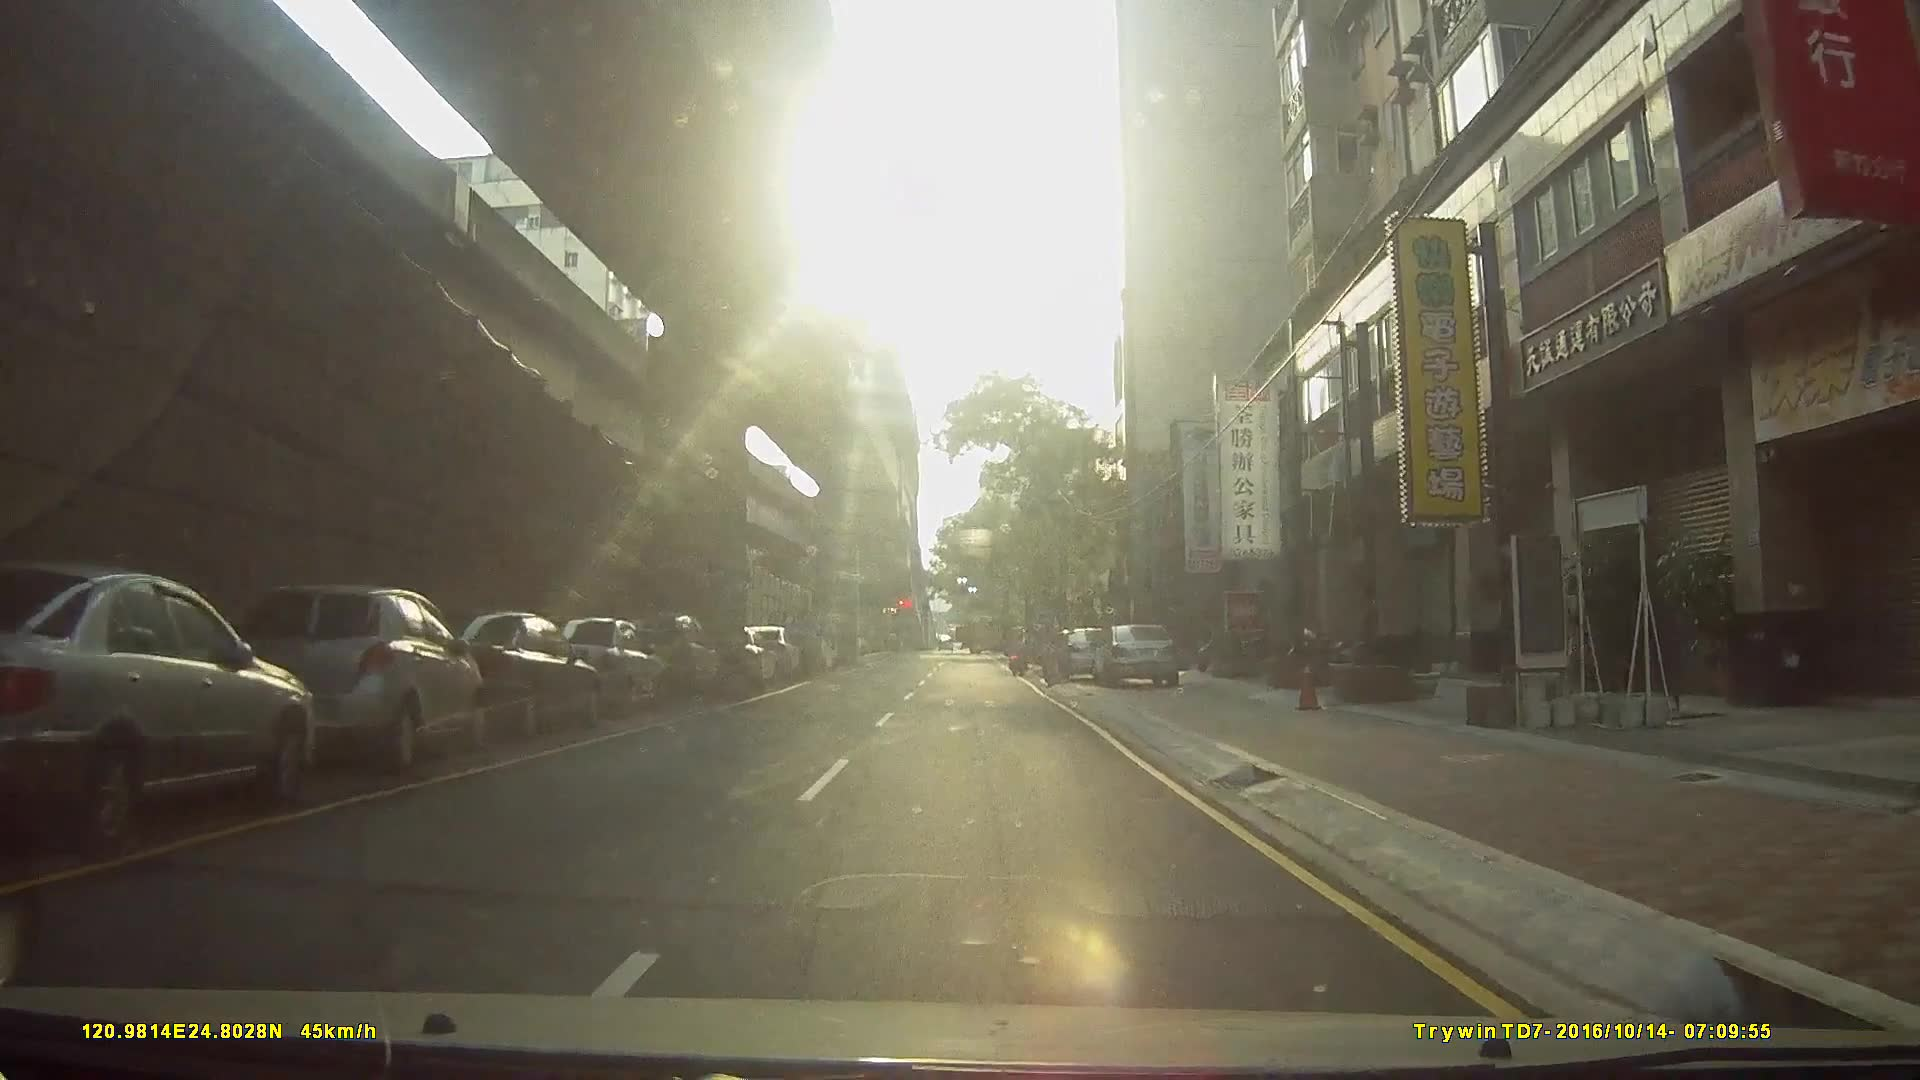vehicle: (1, 551, 319, 843), (200, 582, 472, 775), (418, 609, 596, 746), (535, 615, 663, 719), (615, 612, 719, 711), (1087, 621, 1183, 688), (1040, 625, 1117, 684), (765, 608, 822, 679), (953, 618, 1030, 655)
